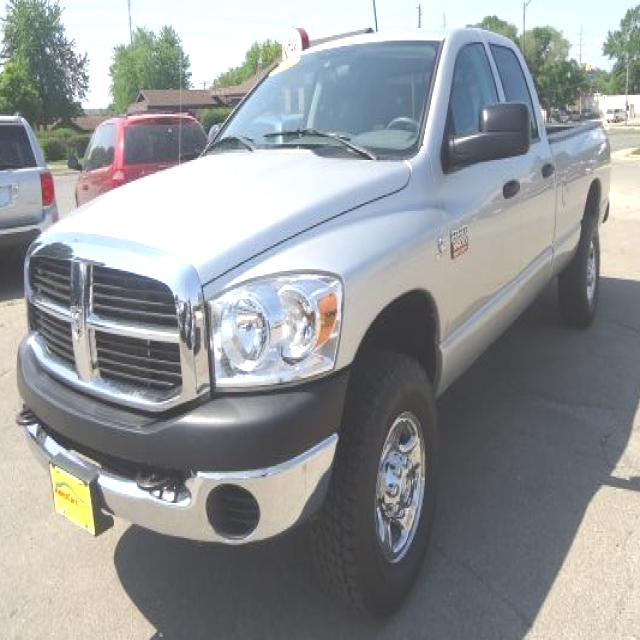CMT: (13, 18, 608, 596)
